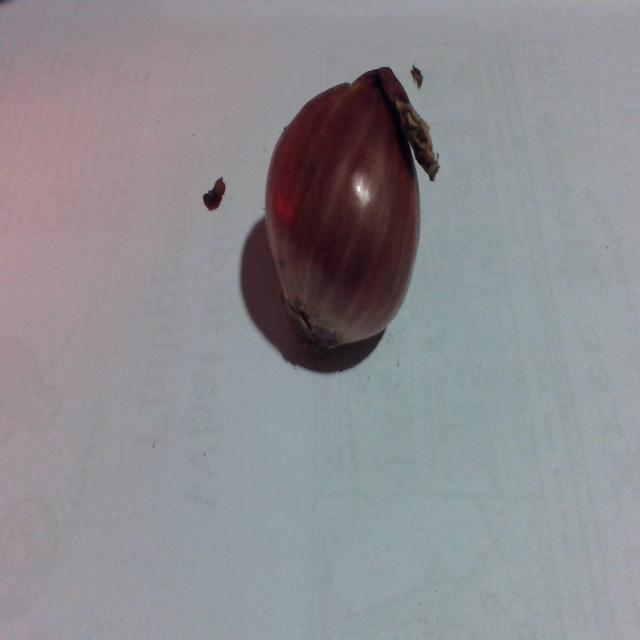onion: (257, 58, 422, 355)
